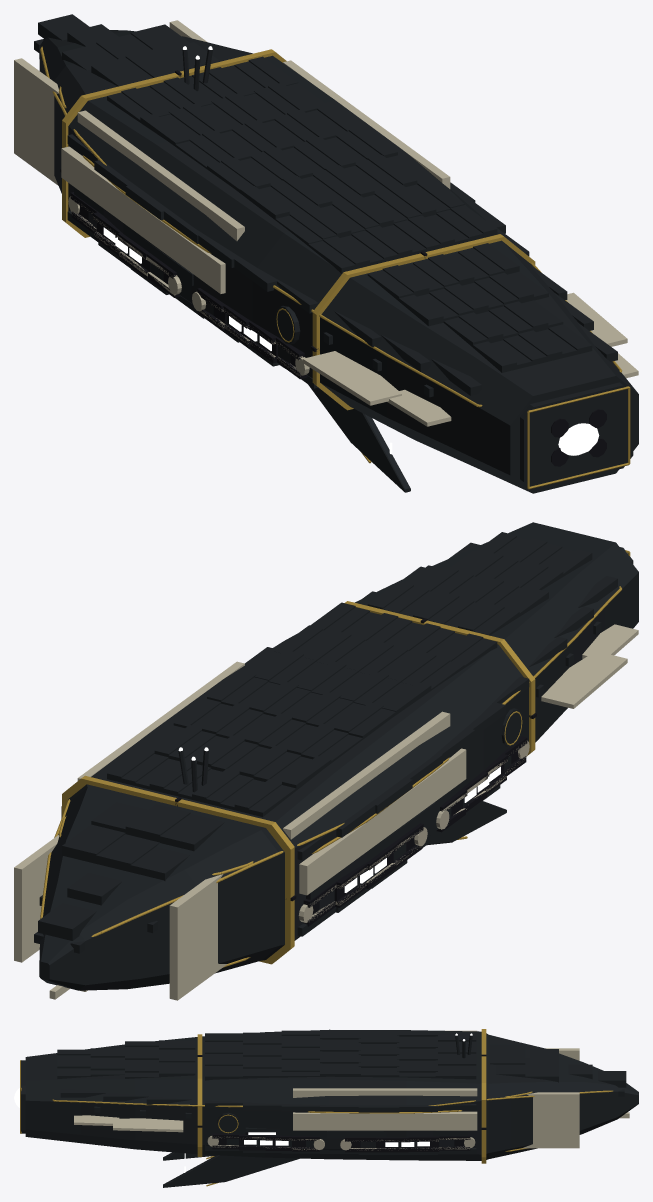
3 renders of one model, top to bottom at view 1: azimuth 30°, elevation 25°; view 2: azimuth 150°, elevation 25°; view 3: azimuth 270°, elevation 25°, orthographic. The views are drawn at different scales.
Visible parts, largest first — view 1: RIMWARD_HULL, RIMWARD_ENGINE_GLOW, RIMWARD_EMISSIVE; view 2: RIMWARD_HULL, RIMWARD_EMISSIVE; view 3: RIMWARD_HULL, RIMWARD_EMISSIVE.
Part boxes in pixels (bbox=[...]): RIMWARD_HULL: bbox=[14, 14, 638, 493]; RIMWARD_ENGINE_GLOW: bbox=[558, 423, 599, 455]; RIMWARD_EMISSIVE: bbox=[103, 46, 392, 454]; RIMWARD_HULL: bbox=[14, 522, 638, 1000]; RIMWARD_EMISSIVE: bbox=[178, 747, 500, 892]; RIMWARD_HULL: bbox=[20, 1029, 638, 1187]; RIMWARD_EMISSIVE: bbox=[184, 1033, 472, 1172].
Size of the model in its own units: 4.77 by 4.04 by 16.46.
